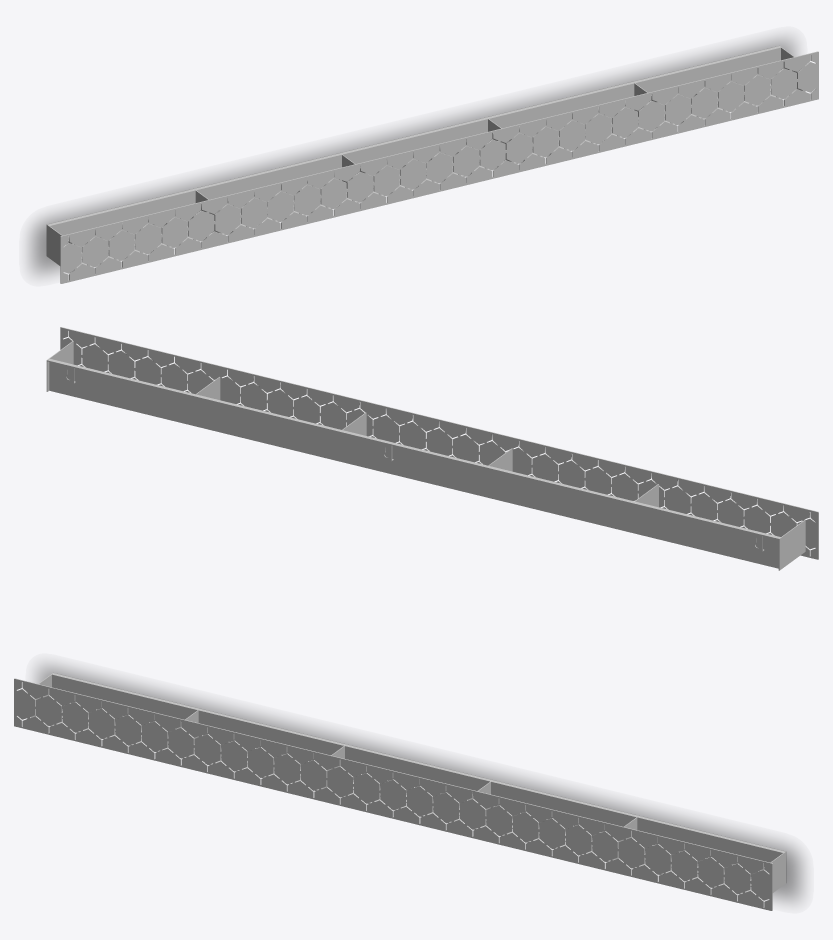
File: bee-mono.a484e657ec.ar.glb
3 views of the same model, one above another, from view 1: azimuth 30°, elevation 25°; view 2: azimuth 150°, elevation 25°; view 3: azimuth 330°, elevation 25° (orthographic).
Parts seen in each view (by area): view 1: NAUO1, object 2; view 2: NAUO1; view 3: NAUO1, object 2.
Part boxes in pixels (box(x1,y1,x2,y2)): NAUO1: box(46, 45, 818, 283); object 2: box(29, 38, 797, 274); NAUO1: box(46, 327, 818, 570); NAUO1: box(14, 672, 786, 910); object 2: box(35, 665, 803, 901).
Size of the model in its own units: 1.58 by 0.17 by 0.092.
2 materials, 1 textured.
